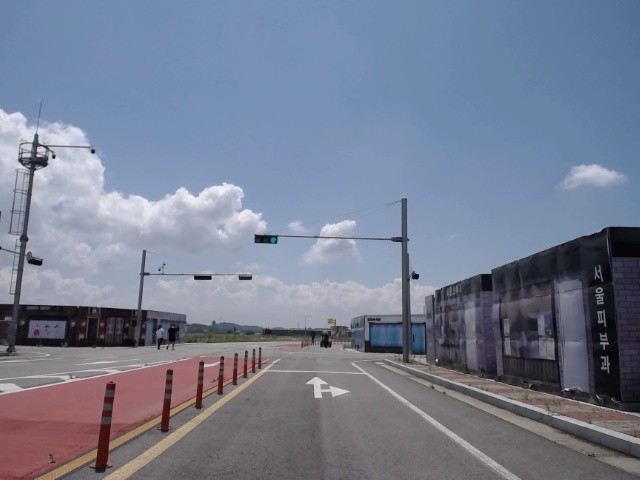green_3: (253, 235, 279, 245)
